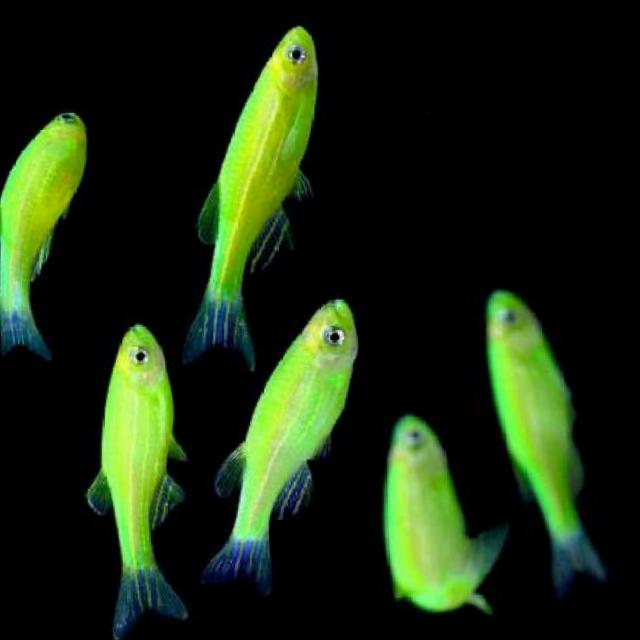ZebraFish: (183, 292, 367, 588), (172, 23, 328, 364), (73, 322, 181, 640)
